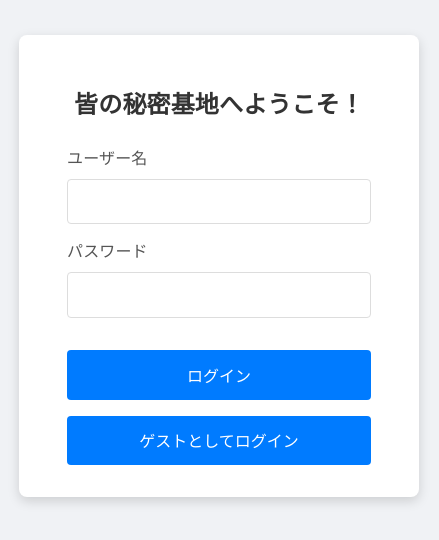
Scenario: Login Component › Failure Cases › should display error message for invalid credentials
# Fill in username and password
Type "wronguser" into the field labelled "ユーザー名". click: (219,202)
box: [67,179,371,224]
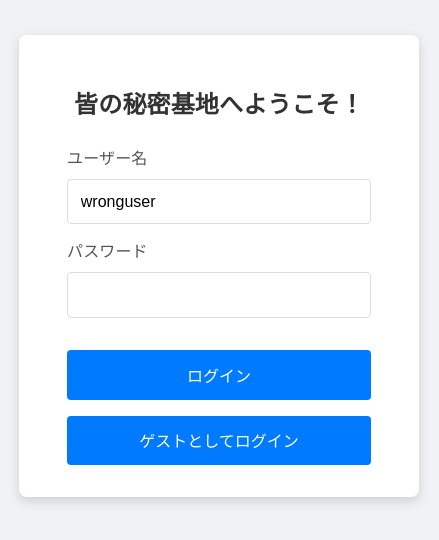
Type "wrongpassword" into the password field labelled "パスワード". click: (219,295)
box: [67,272,371,318]
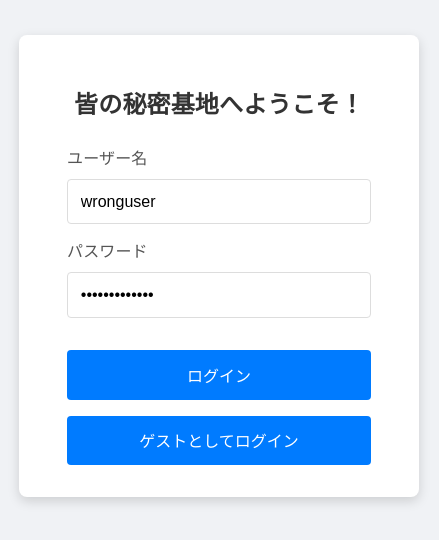
# Click login button
Click the button "ログイン". click: (219,375)
box: [67,350,371,400]
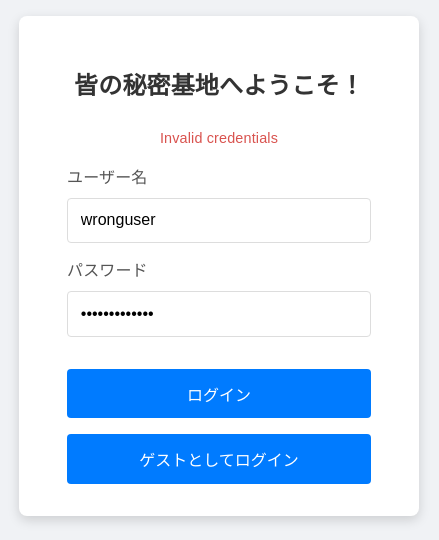
Check: the text "Invalid credentials" is shown, box [160,130,278,146]
